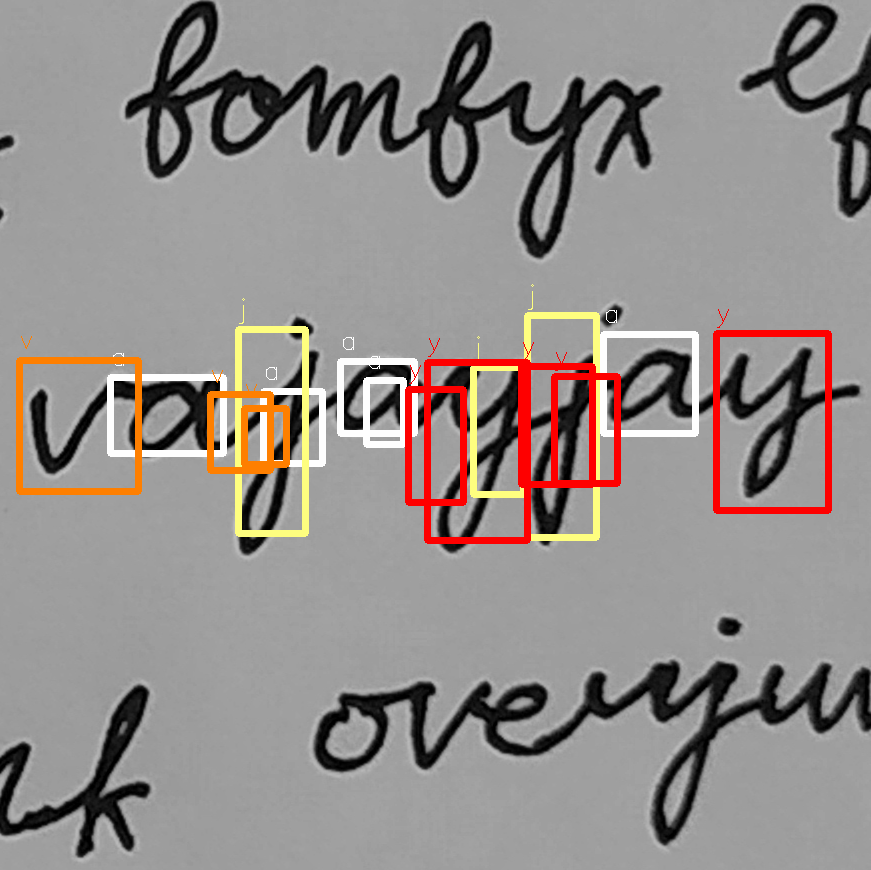a: (124, 368, 227, 470), (328, 355, 422, 442), (605, 342, 699, 426)
j: (231, 308, 325, 560), (530, 315, 604, 549)
v: (25, 369, 118, 479)
y: (430, 355, 533, 556), (718, 340, 817, 503)
